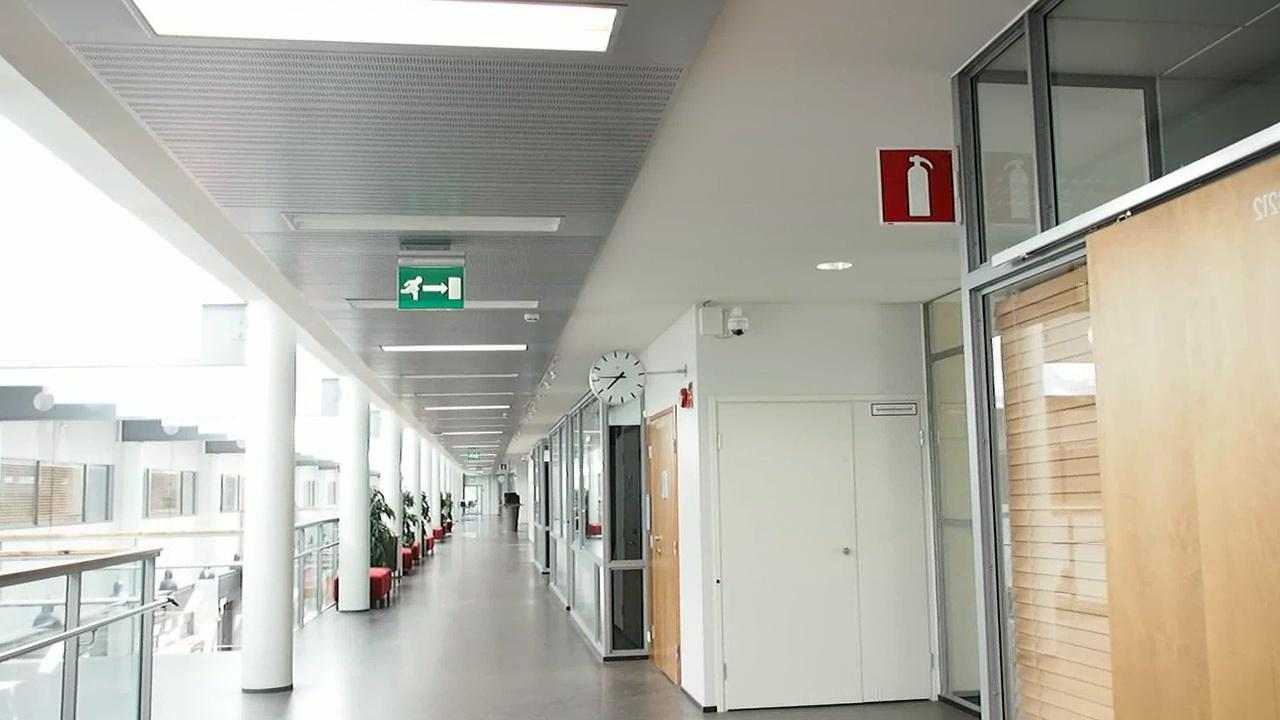clock: (586, 350, 649, 410)
exit: (391, 262, 464, 313)
fireextinguisher: (883, 146, 959, 224)
